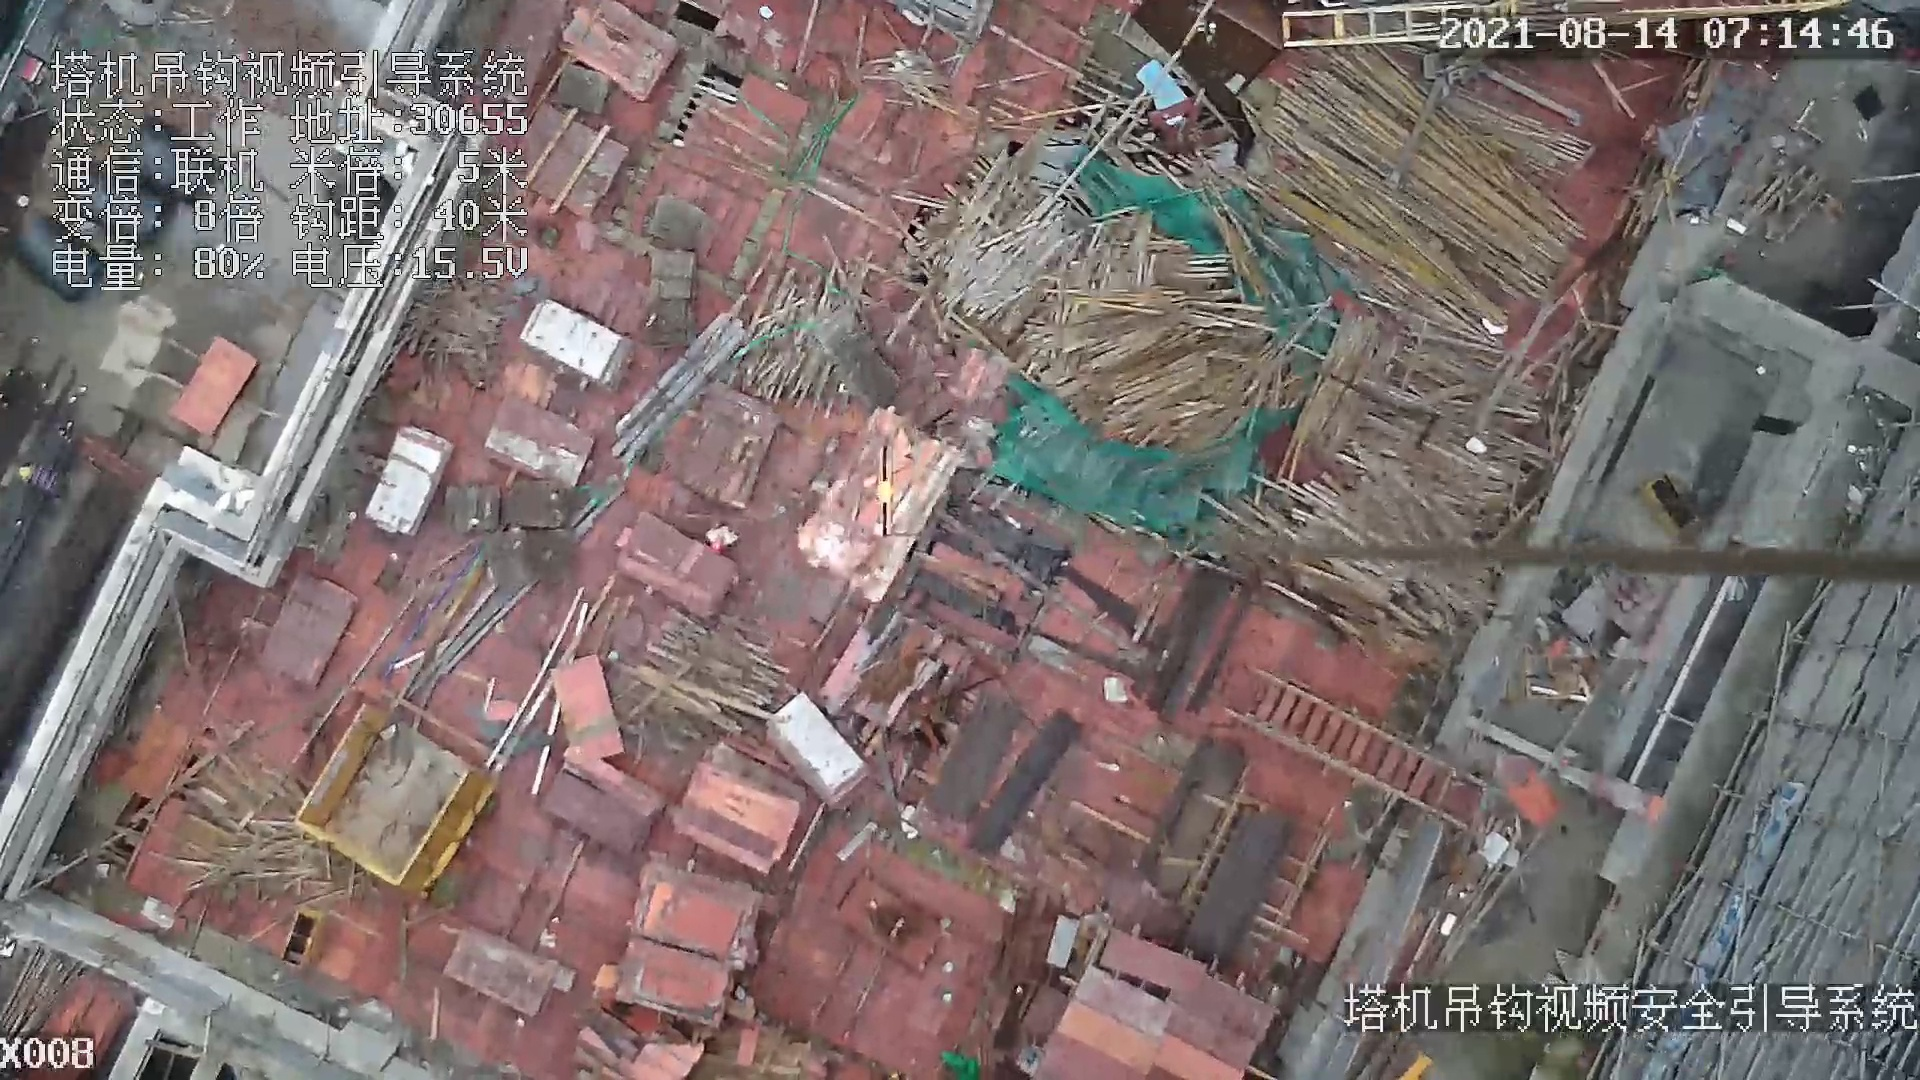hook: (870, 440, 901, 541)
